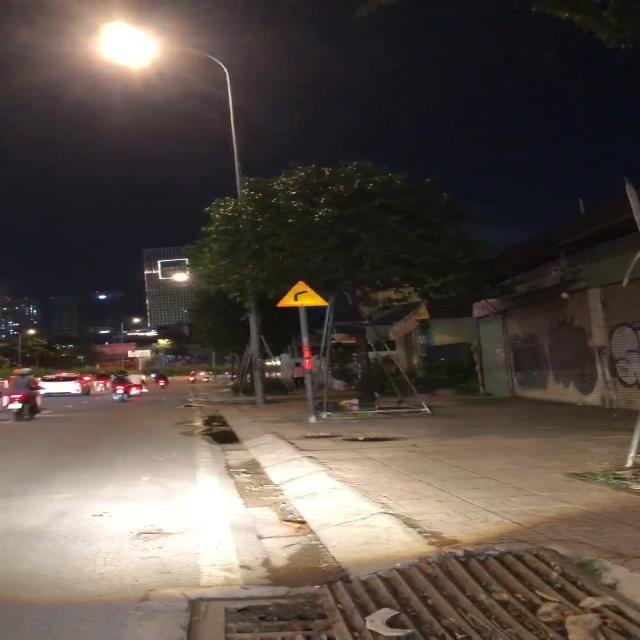Bien bao cho ngoat nguy hiem: (272, 274, 330, 308)
